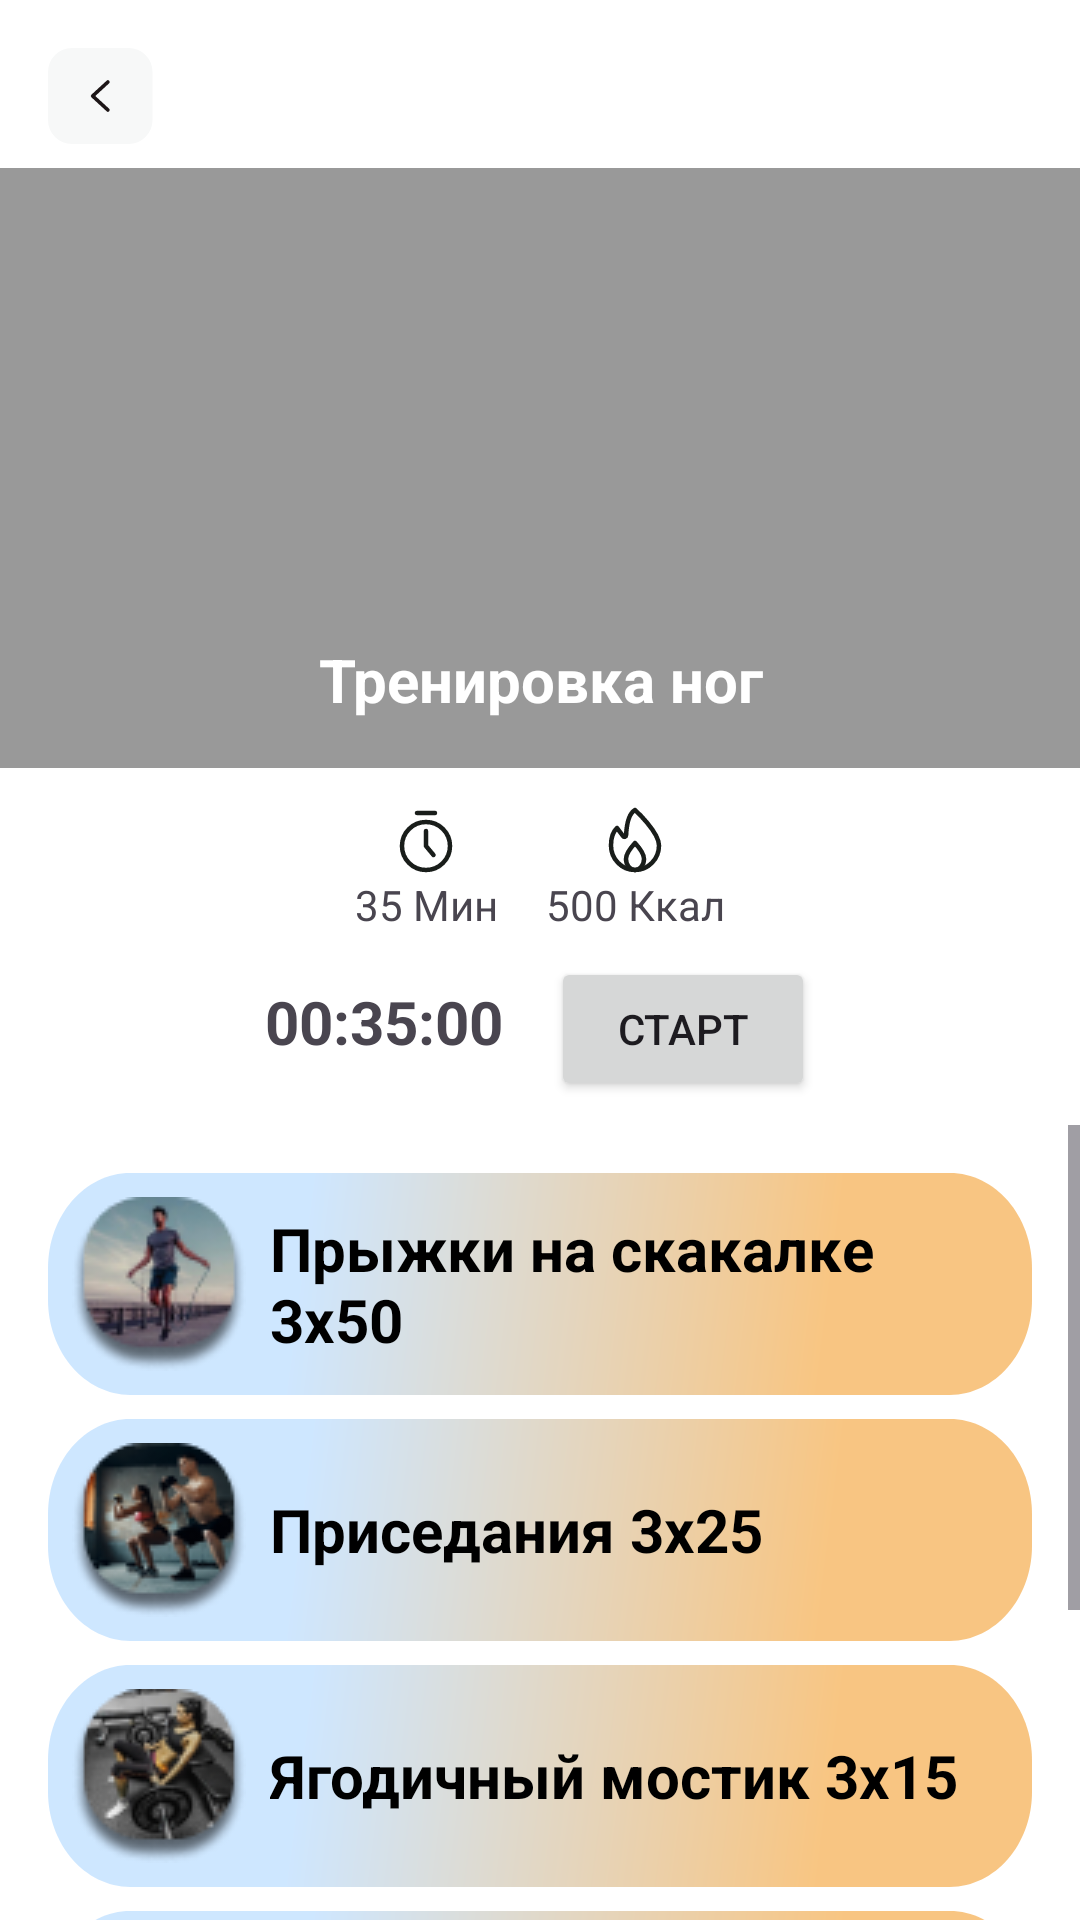

Locate icon controls on the screen. Image size 1080*1920, boxes as [x1,y1,x2,y2].
back: [91,80,110,112]
burn: [608,807,662,873]
time: [399,810,453,873]
